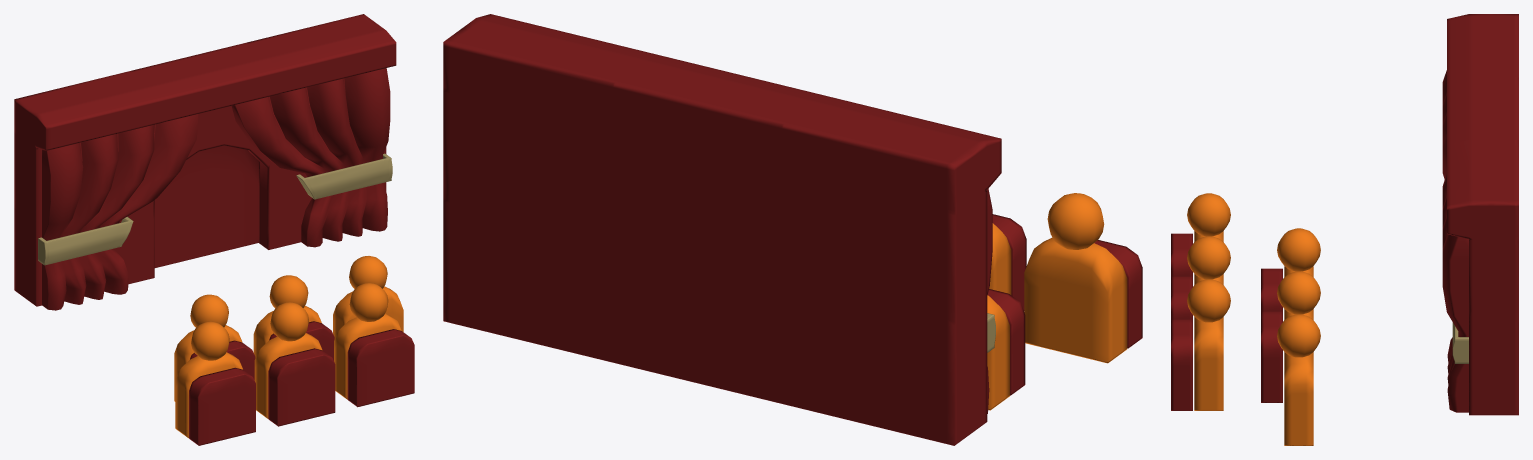
The model's file is Theatre.glb.
3 views of the same model, side by side, from view 1: azimuth 30°, elevation 25°; view 2: azimuth 150°, elevation 25°; view 3: azimuth 270°, elevation 25° (orthographic). The views are drawn at different scales.
Parts seen in each view (by area): view 1: Box028, Theater with Audience Seating, Box006, Box008, Box010, Box011, Box009, Box007, Box015, Box019, Box017, Box018 (+1 smaller); view 2: Box028, Box011, Box019, Box010, Box018, Box008, Box009; view 3: Box028, Box007, Box015, Box006, Box016, Box019, Box017, Box009, Box011, Box008, Box010, Box018 (+1 smaller).
Boxes of the visible parts, x1=… form: Box028: x1=14, y1=14, x2=396, y2=310; Theater with Audience Seating: x1=38, y1=153, x2=392, y2=265; Box006: x1=347, y1=329, x2=414, y2=407; Box008: x1=268, y1=348, x2=335, y2=426; Box010: x1=189, y1=367, x2=255, y2=445; Box011: x1=175, y1=321, x2=242, y2=438; Box009: x1=254, y1=302, x2=322, y2=418; Box007: x1=334, y1=283, x2=401, y2=399; Box015: x1=333, y1=256, x2=403, y2=338; Box019: x1=174, y1=294, x2=242, y2=401; Box017: x1=253, y1=275, x2=321, y2=357; Box018: x1=190, y1=340, x2=255, y2=379; Box028: x1=443, y1=14, x2=1001, y2=445; Box011: x1=1024, y1=193, x2=1127, y2=363; Box019: x1=987, y1=295, x2=1009, y2=410; Box010: x1=1094, y1=240, x2=1142, y2=348; Box018: x1=987, y1=289, x2=1025, y2=395; Box008: x1=992, y1=214, x2=1026, y2=311; Box009: x1=989, y1=223, x2=1011, y2=294; Box028: x1=1442, y1=14, x2=1518, y2=415; Box007: x1=1187, y1=279, x2=1230, y2=410; Box015: x1=1277, y1=314, x2=1320, y2=445; Box006: x1=1171, y1=319, x2=1192, y2=410; Box016: x1=1261, y1=311, x2=1282, y2=402; Box019: x1=1277, y1=228, x2=1320, y2=276; Box017: x1=1277, y1=271, x2=1320, y2=319; Box009: x1=1187, y1=236, x2=1230, y2=284; Box011: x1=1187, y1=193, x2=1230, y2=241; Box008: x1=1171, y1=276, x2=1192, y2=319; Box010: x1=1171, y1=233, x2=1192, y2=276; Box018: x1=1261, y1=268, x2=1282, y2=311.
Bounding box in the file's own units: 1.84 × 1.26 × 1.43.
